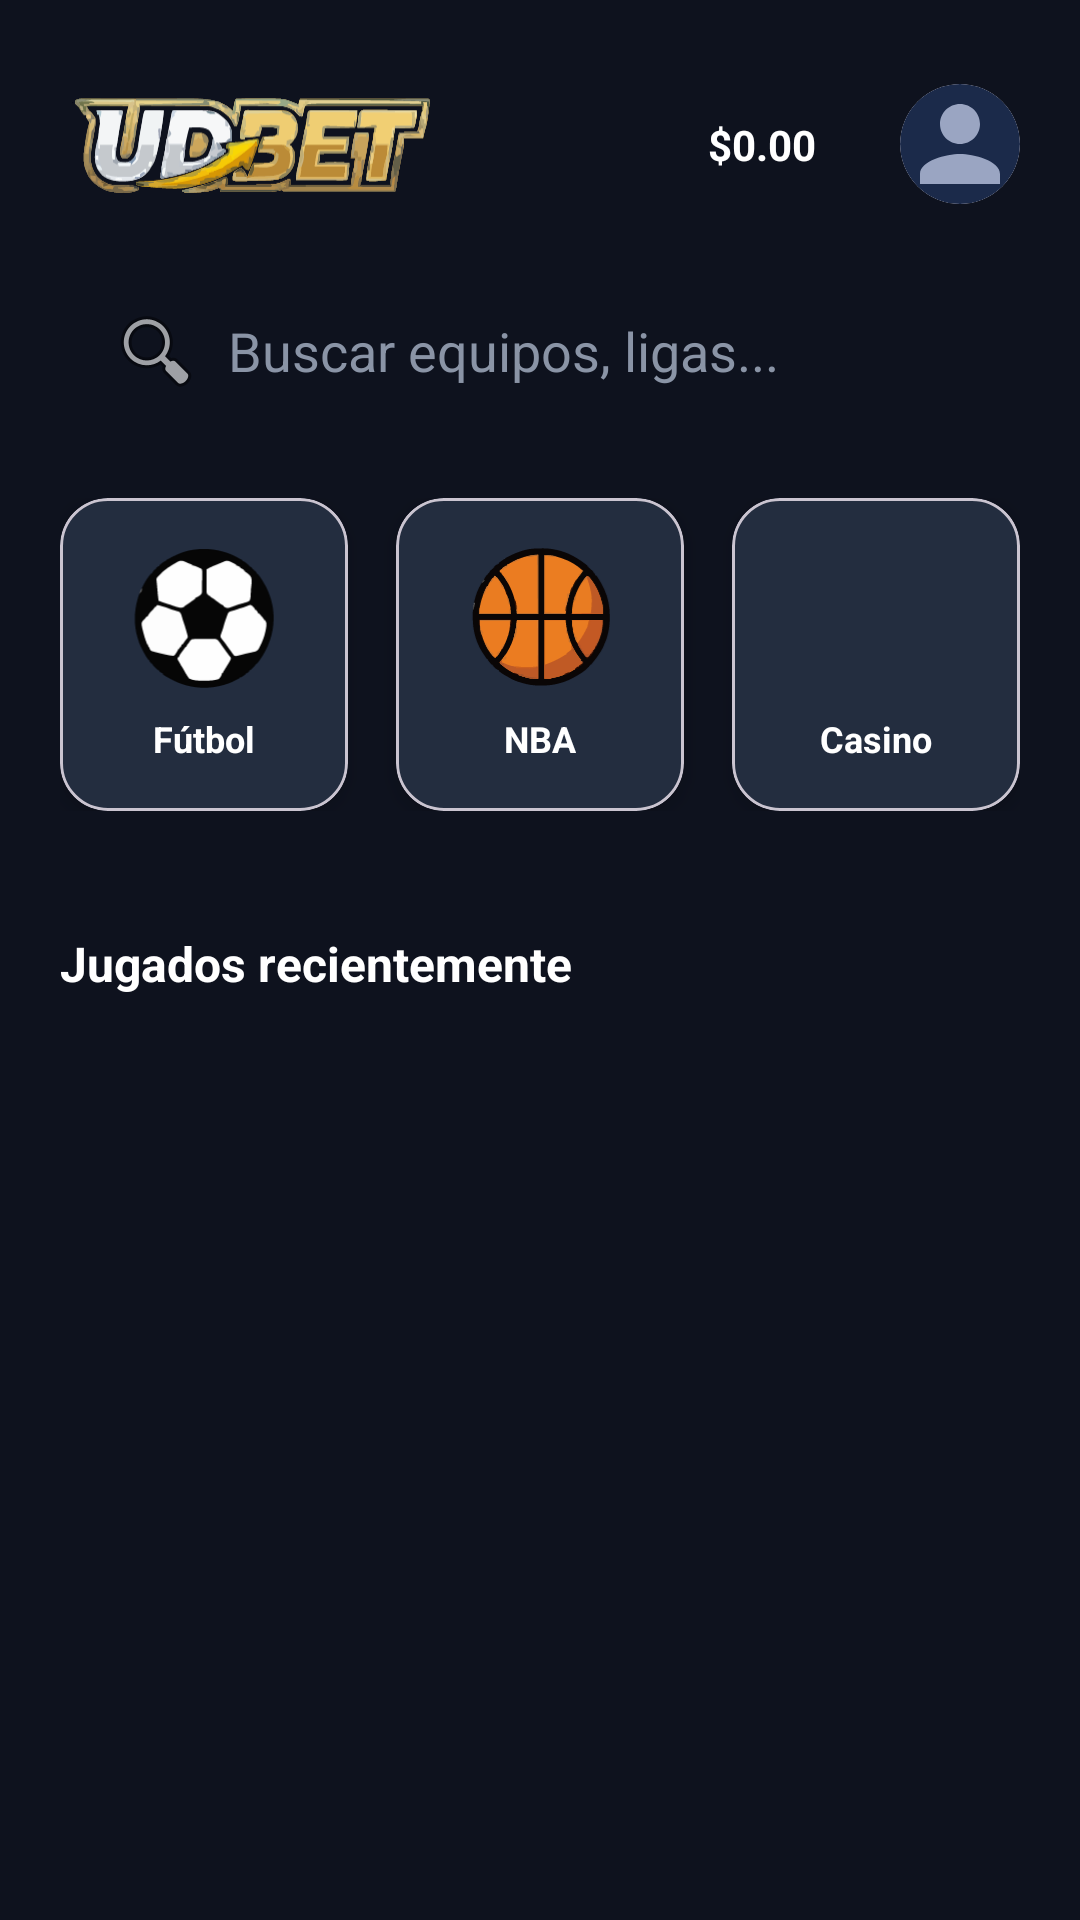

Icon click points for this 1080*1920 phone screenshot, format [x,y]:
basquet: [541,617]
